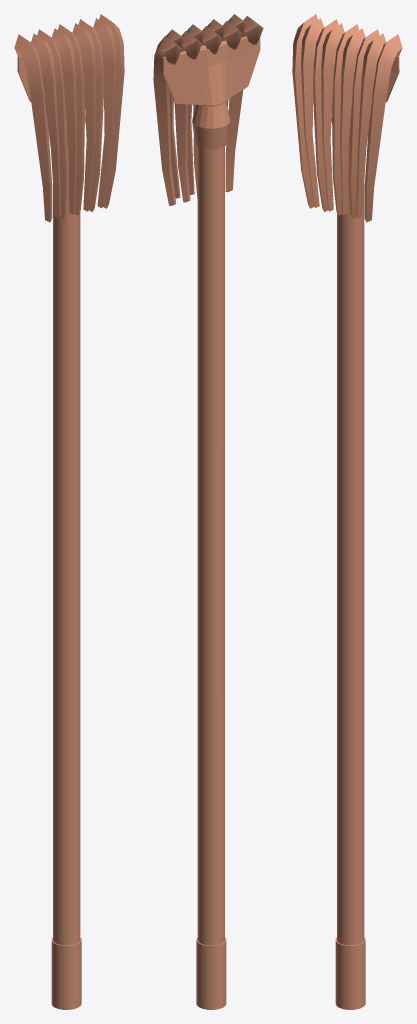
Rendered from mop.fbx.
3 renders of one model, left to right at view 1: azimuth 30°, elevation 25°; view 2: azimuth 210°, elevation 25°; view 3: azimuth 330°, elevation 25°, orthographic.
Visible parts, largest first — view 1: mop; view 2: mop; view 3: mop.
Boxes of the visible parts, x1,y1,x2,y2 form: mop: (14,14,124,1009); mop: (153,14,263,1009); mop: (292,14,402,1009).
Bounding box in the file's own units: 16.63 × 156 × 8.03.
